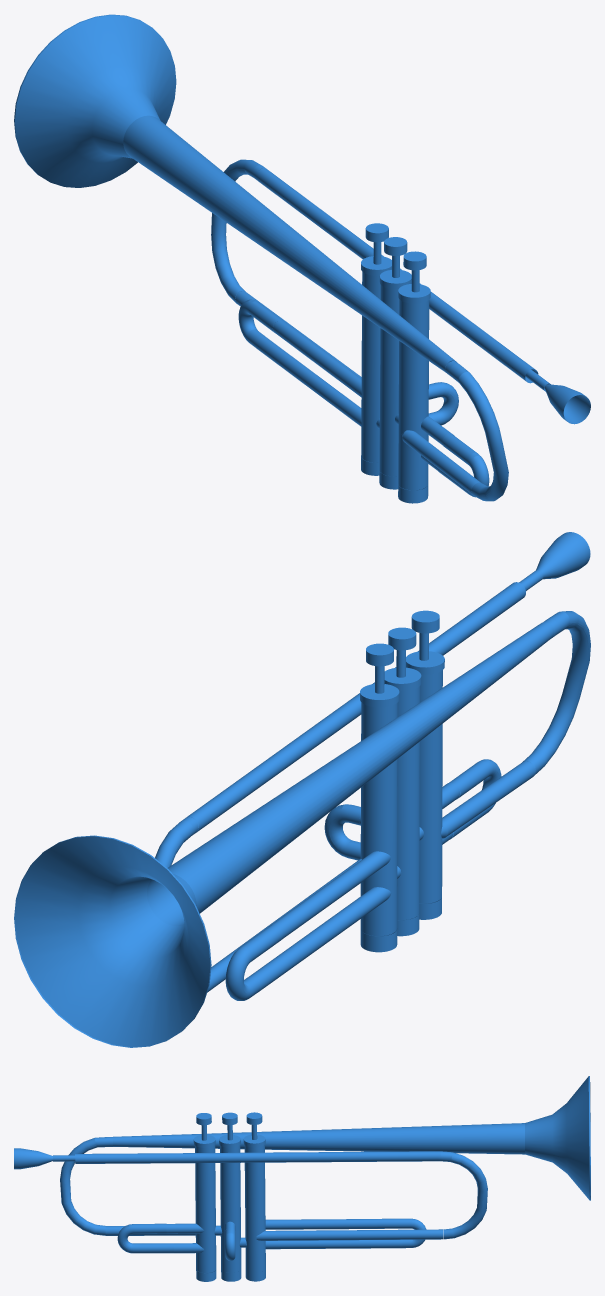
The model's file is thebluetrumpet.glb.
3 renders of one model, top to bottom at view 1: azimuth 30°, elevation 25°; view 2: azimuth 150°, elevation 25°; view 3: azimuth 270°, elevation 25°, orthographic. The views are drawn at different scales.
Parts seen in each view (by area): view 1: Cylinder.025, Cylinder.001, Cylinder.005, Cylinder.002, Cylinder.003, Cylinder.024, Cylinder.012, Cylinder.017, Cylinder.013, Cylinder.009, Cylinder.035, Cylinder.019 (+2 smaller); view 2: Cylinder.025, Cylinder.005, Cylinder.003, Cylinder.001, Cylinder.002, Cylinder.024, Cylinder.012, Cylinder.013, Cylinder.009, Cylinder.019, Cylinder.035, Cylinder.020 (+5 smaller); view 3: Cylinder.025, Cylinder.005, Cylinder.003, Cylinder.001, Cylinder.002, Cylinder.018, Cylinder.024, Cylinder.017, Cylinder.012, Cylinder.013, Cylinder.004, Cylinder.019 (+6 smaller).
Part boxes in pixels (bbox=[...]): Cylinder.025: bbox=[14, 14, 456, 372]; Cylinder.001: bbox=[398, 299, 429, 490]; Cylinder.005: bbox=[256, 168, 538, 383]; Cylinder.002: bbox=[379, 285, 399, 476]; Cylinder.003: bbox=[361, 272, 380, 462]; Cylinder.024: bbox=[445, 361, 508, 501]; Cylinder.012: bbox=[254, 335, 361, 426]; Cylinder.017: bbox=[211, 159, 265, 303]; Cylinder.013: bbox=[273, 320, 361, 397]; Cylinder.009: bbox=[402, 430, 480, 494]; Cylinder.035: bbox=[544, 384, 590, 424]; Cylinder.019: bbox=[238, 299, 281, 346]; Cylinder.025: bbox=[14, 622, 554, 1047]; Cylinder.005: bbox=[187, 582, 525, 831]; Cylinder.003: bbox=[360, 702, 397, 936]; Cylinder.001: bbox=[419, 670, 442, 903]; Cylinder.002: bbox=[397, 686, 419, 919]; Cylinder.024: bbox=[523, 611, 590, 774]; Cylinder.012: bbox=[249, 887, 391, 991]; Cylinder.013: bbox=[269, 851, 390, 939]; Cylinder.009: bbox=[441, 761, 535, 838]; Cylinder.019: bbox=[225, 925, 282, 1000]; Cylinder.035: bbox=[536, 532, 590, 579]; Cylinder.020: bbox=[324, 804, 360, 860]; Cylinder.025: bbox=[113, 1076, 590, 1200]; Cylinder.005: bbox=[75, 1151, 434, 1163]; Cylinder.003: bbox=[244, 1145, 265, 1272]; Cylinder.001: bbox=[195, 1145, 216, 1272]; Cylinder.002: bbox=[220, 1145, 241, 1272]; Cylinder.018: bbox=[256, 1229, 443, 1240]; Cylinder.024: bbox=[60, 1137, 112, 1235]; Cylinder.017: bbox=[435, 1151, 487, 1239]; Cylinder.012: bbox=[265, 1239, 402, 1249]; Cylinder.013: bbox=[265, 1219, 377, 1229]; Cylinder.004: bbox=[117, 1223, 166, 1253]; Cylinder.019: bbox=[377, 1218, 426, 1248].
Size of the model in its own units: 0.1422 by 0.2163 by 0.6084.
